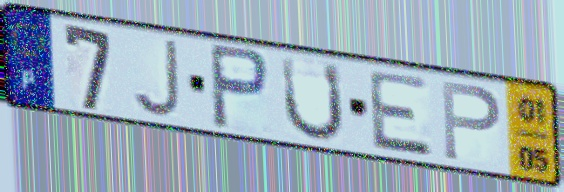7: (61, 19, 113, 114)
E: (365, 67, 438, 160)
J: (128, 36, 183, 120)
P: (206, 40, 273, 134), (438, 77, 504, 165)
U: (279, 53, 348, 144)
